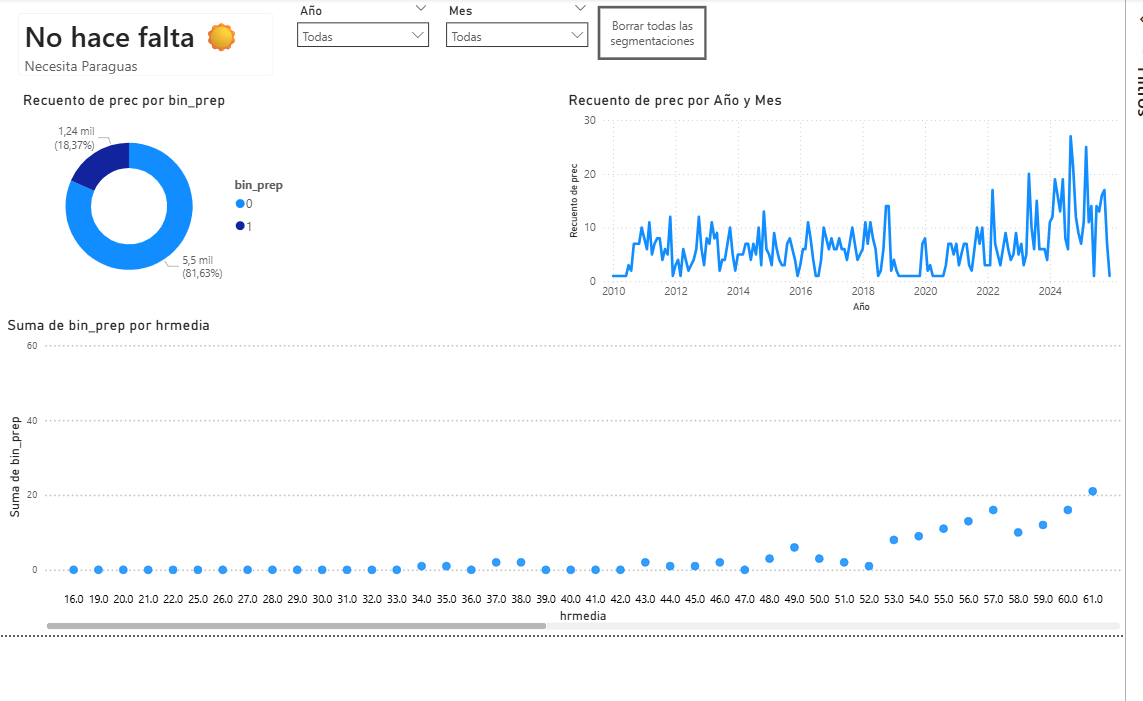

The dashboard page shown, as its layout file describes it:
{"tool":"powerbi","page":{"name":"lluvia","canvas":[1280,720],"ordinal":1},"visuals":[{"type":"cardVisual","fields":{"Data":["data_weather_final.Necesita Paraguas"]},"box":[10.1,0,323.2,105.2],"z":0},{"type":"slicer","fields":{"Values":["data_weather_final.date.Variación.Jerarquía de fechas.Año"]},"box":[333.2,0,168.8,76.3],"z":1000},{"type":"actionButton","box":[682.6,8.6,123.6,61.3],"z":2000},{"type":"slicer","fields":{"Values":["data_weather_final.date.Variación.Jerarquía de fechas.Mes"]},"box":[502,0,180.6,76.3],"z":3000},{"type":"scatterChart","fields":{"X":["data_weather_final.hrmedia"],"Y":["Sum(data_weather_final.bin_prep)"]},"box":[10.1,360,1270,360],"z":4000},{"type":"lineChart","fields":{"Y":["Count(data_weather_final.prec)"],"Category":["data_weather_final.date.Variación.Jerarquía de fechas.Año","data_weather_final.date.Variación.Jerarquía de fechas.Mes"]},"box":[645.2,105.2,635,254.8],"z":5000},{"type":"donutChart","fields":{"Category":["data_weather_final.bin_prep"],"Y":["CountNonNull(data_weather_final.prec)"]},"box":[27.9,105.2,323.2,242.1],"z":5001},{"type":"pageNavigator","box":[860.6,8.9,400.5,49.4],"z":5002}]}

Visuals, with their boxes on the page's 1280x720 design canvas (x1, y1, x2, y2). These are canvas units, not pixel positions in the 1143x701 screenshot, which may show the page scaled, cropped or inside an application window:
cardVisual - data_weather_final.Necesita Paraguas: bbox=[10, 0, 333, 105]
slicer - data_weather_final.date.Variación.Jerarquía de fechas.Año: bbox=[333, 0, 502, 76]
actionButton: bbox=[683, 9, 806, 70]
slicer - data_weather_final.date.Variación.Jerarquía de fechas.Mes: bbox=[502, 0, 683, 76]
scatterChart - data_weather_final.hrmedia x Sum(data_weather_final.bin_prep): bbox=[10, 360, 1280, 720]
lineChart - Count(data_weather_final.prec) x data_weather_final.date.Variación.Jerarquía de fechas.Año: bbox=[645, 105, 1280, 360]
donutChart - data_weather_final.bin_prep x CountNonNull(data_weather_final.prec): bbox=[28, 105, 351, 347]
pageNavigator: bbox=[861, 9, 1261, 58]
